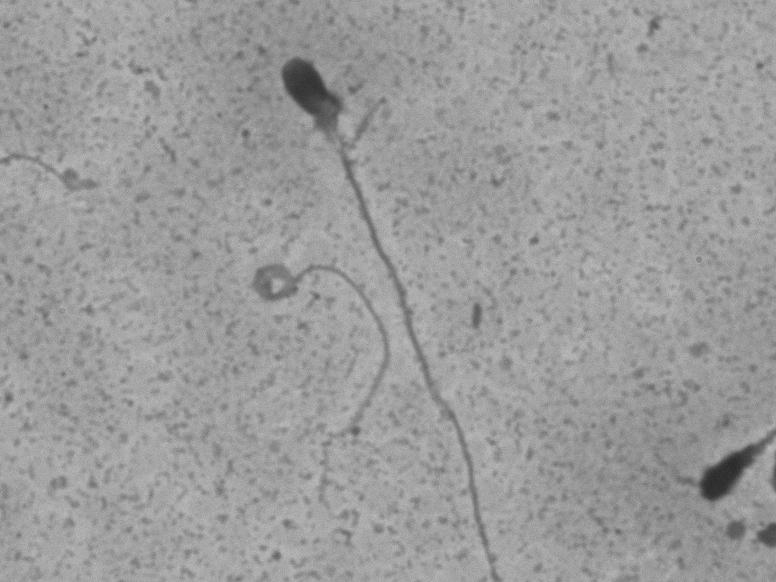Abnormal: (269, 40, 507, 574)
